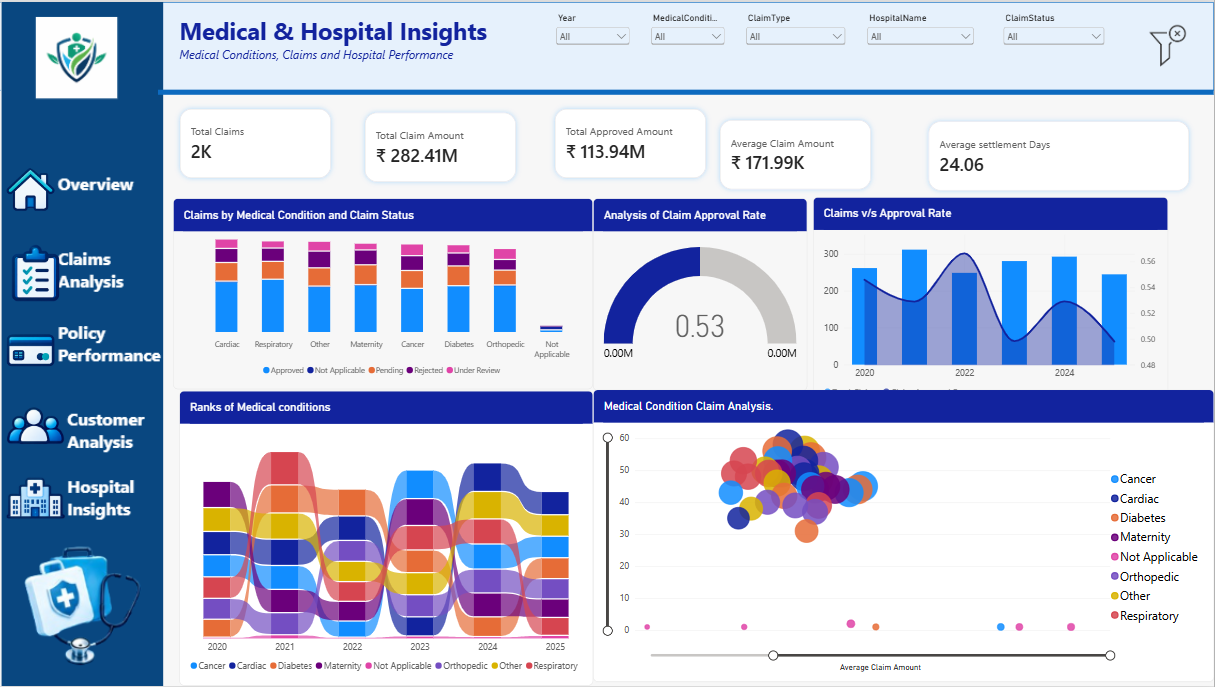

Layout of this report page (visuals, bound fields, positions):
{"tool":"powerbi","page":{"name":"Medical & Hospital Insights","canvas":[1920,1080],"ordinal":4},"visuals":[{"type":"shape","box":[0,0,1920,139.8],"z":16000},{"type":"image","box":[0,0,265,1081],"z":17000},{"type":"shape","box":[253.1,132.3,1666.9,20.5],"z":18000},{"type":"image","box":[10,240.3,82.8,110.4],"z":19000},{"type":"image","box":[10,337.6,99.4,180.4],"z":20000},{"type":"image","box":[10,490.4,82.8,121.5],"z":21000},{"type":"image","box":[10,606.3,99.4,127],"z":22000},{"type":"image","box":[10,714.9,99.4,138],"z":23000},{"type":"image","box":[1790.2,30.9,112.7,75.1],"z":24000},{"type":"slicer","fields":{"Values":["Dim_Date.Date.Variation.Date Hierarchy.Year"]},"box":[875.6,16,125.8,136.1],"z":25125},{"type":"slicer","fields":{"Values":["Fact_InsuranceTransactions.MedicalCondition"]},"box":[1026.1,16,125.8,136.1],"z":25250},{"type":"slicer","fields":{"Values":["Fact_InsuranceTransactions.ClaimStatus"]},"box":[1582.5,16,168.7,136.8],"z":25375},{"type":"slicer","fields":{"Values":["Fact_InsuranceTransactions.HospitalName"]},"box":[1368.2,16,177.9,114],"z":25500},{"type":"slicer","fields":{"Values":["Fact_InsuranceTransactions.ClaimType"]},"box":[1176.6,16,166.5,136.8],"z":26000},{"type":"textbox","box":[286.1,19.6,562.4,109.7],"z":26001},{"type":"cardVisual","fields":{"Data":["DAX Measures.Total Claims"]},"box":[276.5,157,260.6,131.3],"z":26002},{"type":"cardVisual","fields":{"Data":["DAX Measures.Total Claim Amount"]},"box":[568.3,164.6,260.6,131.3],"z":26003},{"type":"cardVisual","fields":{"Data":["DAX Measures.Total Approved Amount"]},"box":[848.5,163.8,260.6,131.3],"z":26004},{"type":"cardVisual","fields":{"Data":["DAX Measures.Average Claim Amount"]},"box":[1130.1,156.4,260.6,131.3],"z":26005},{"type":"cardVisual","fields":{"Data":["DAX Measures.Average settlement Days"]},"box":[1391.4,163.8,433.1,131.3],"z":26006},{"type":"columnChart","title":" Claims by Medical Condition and Claim Status","fields":{"Category":["Fact_InsuranceTransactions.MedicalCondition"],"Series":["Fact_InsuranceTransactions.ClaimStatus"],"Y":["DAX Measures.Total Claims"]},"box":[276.3,309.9,663.2,302],"z":26010},{"type":"gauge","title":"Analysis of  Claim Approval Rate","fields":{"TargetValue":["DAX Measures.Target"],"Y":["DAX Measures.Claim Approval Rate"]},"box":[939.5,309.9,338.7,303.7],"z":26011},{"type":"ribbonChart","title":"Ranks of  Medical conditions","fields":{"Category":["Dim_Date.Year"],"Series":["Fact_InsuranceTransactions.MedicalCondition"],"Y":["DAX Measures.Total Claims"]},"box":[286.2,613.8,653.3,465.8],"z":26012},{"type":"lineClusteredColumnComboChart","title":"Claims v/s Approval Rate","fields":{"Category":["Dim_Date.Year"],"Y":["DAX Measures.Total Claims"],"Y2":["DAX Measures.Claim Approval Rate"]},"box":[1286.8,307.9,560.5,339.5],"z":26013},{"type":"scatterChart","title":"Medical Condition Claim Analysis.","fields":{"Category":["Fact_InsuranceTransactions.HospitalName"],"Series":["Fact_InsuranceTransactions.MedicalCondition"],"Size":["DAX Measures.Total Claim Amount"],"X":["DAX Measures.Average Claim Amount"],"Y":["DAX Measures.Total Claims"]},"box":[939.5,611.8,980.9,461.8],"z":26014}]}

Visuals, with their boxes in screenshot pixels (x1, y1, x2, y2), scaled from the page's 1920x1080 canvas onto the 1215x687 screenshot:
shape: select_region(0, 0, 1214, 89)
image: select_region(0, 0, 168, 686)
shape: select_region(160, 84, 1214, 97)
image: select_region(6, 153, 59, 223)
image: select_region(6, 215, 69, 330)
image: select_region(6, 312, 59, 389)
image: select_region(6, 386, 69, 466)
image: select_region(6, 455, 69, 543)
image: select_region(1133, 20, 1204, 67)
slicer - Dim_Date.Date.Variation.Date Hierarchy.Year: select_region(554, 10, 634, 97)
slicer - Fact_InsuranceTransactions.MedicalCondition: select_region(649, 10, 729, 97)
slicer - Fact_InsuranceTransactions.ClaimStatus: select_region(1001, 10, 1108, 97)
slicer - Fact_InsuranceTransactions.HospitalName: select_region(866, 10, 978, 83)
slicer - Fact_InsuranceTransactions.ClaimType: select_region(745, 10, 850, 97)
textbox: select_region(181, 12, 537, 82)
cardVisual - DAX Measures.Total Claims: select_region(175, 100, 340, 183)
cardVisual - DAX Measures.Total Claim Amount: select_region(360, 105, 525, 188)
cardVisual - DAX Measures.Total Approved Amount: select_region(537, 104, 702, 188)
cardVisual - DAX Measures.Average Claim Amount: select_region(715, 99, 880, 183)
cardVisual - DAX Measures.Average settlement Days: select_region(880, 104, 1155, 188)
" Claims by Medical Condition and Claim Status" columnChart: select_region(175, 197, 595, 389)
"Analysis of  Claim Approval Rate" gauge: select_region(595, 197, 809, 390)
"Ranks of  Medical conditions" ribbonChart: select_region(181, 390, 595, 686)
"Claims v/s Approval Rate" lineClusteredColumnComboChart: select_region(814, 196, 1169, 412)
"Medical Condition Claim Analysis." scatterChart: select_region(595, 389, 1214, 683)
